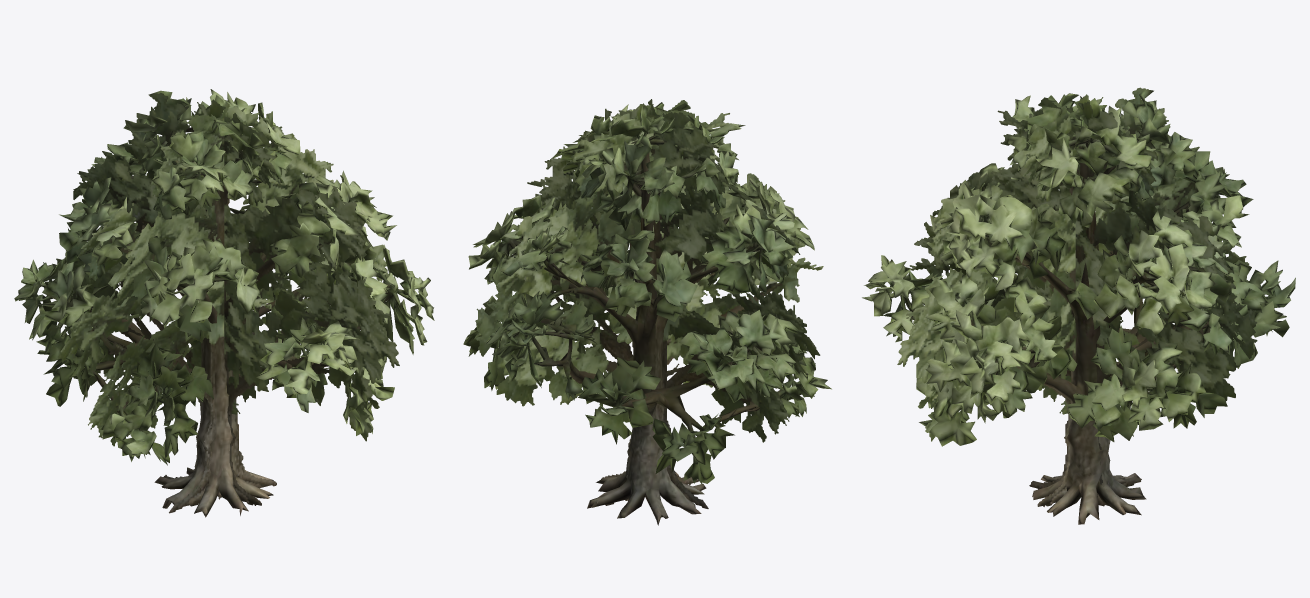
File: tree-oak.glb
3 views of the same model, side by side, from view 1: azimuth 30°, elevation 25°; view 2: azimuth 150°, elevation 25°; view 3: azimuth 270°, elevation 25° (orthographic).
Visible parts, largest first — view 1: tripo_node_c98e57df-7e00-49ec-bcbb-593756b754ef, Tree impostor source; view 2: tripo_node_c98e57df-7e00-49ec-bcbb-593756b754ef, Tree impostor source; view 3: tripo_node_c98e57df-7e00-49ec-bcbb-593756b754ef, Tree impostor source.
Part boxes in pixels (<box>): tripo_node_c98e57df-7e00-49ec-bcbb-593756b754ef: <box>14,89,434,517</box>; Tree impostor source: <box>54,93,399,513</box>; tripo_node_c98e57df-7e00-49ec-bcbb-593756b754ef: <box>463,102,831,525</box>; Tree impostor source: <box>475,99,823,508</box>; tripo_node_c98e57df-7e00-49ec-bcbb-593756b754ef: <box>862,89,1295,524</box>; Tree impostor source: <box>897,87,1257,506</box>.
Bounding box in the file's own units: 0.8566 × 0.973 × 0.9491.
Materials: 2 (2 with a texture image).
